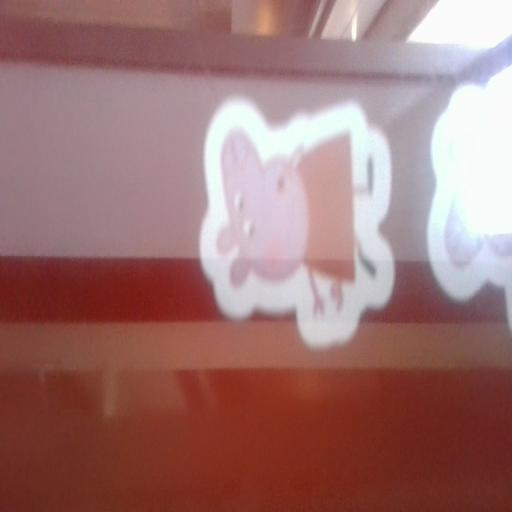phone: (1, 32, 512, 512)
